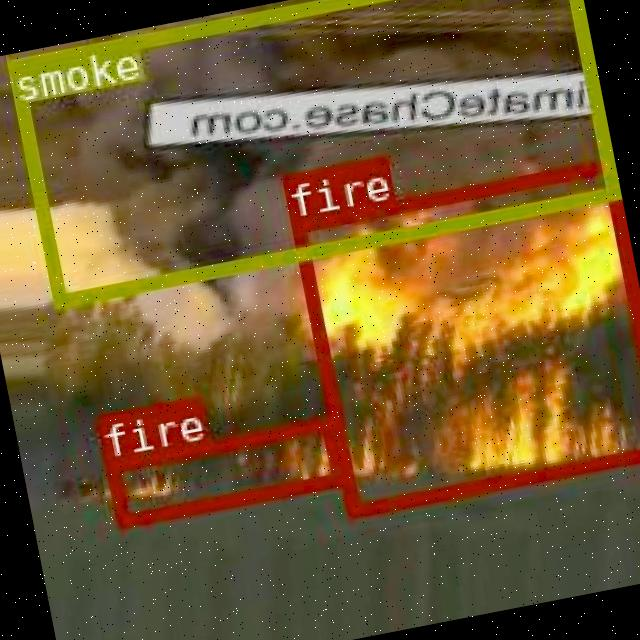fire: (287, 156, 640, 515), (104, 414, 344, 526)
smoke: (5, 0, 616, 305)
